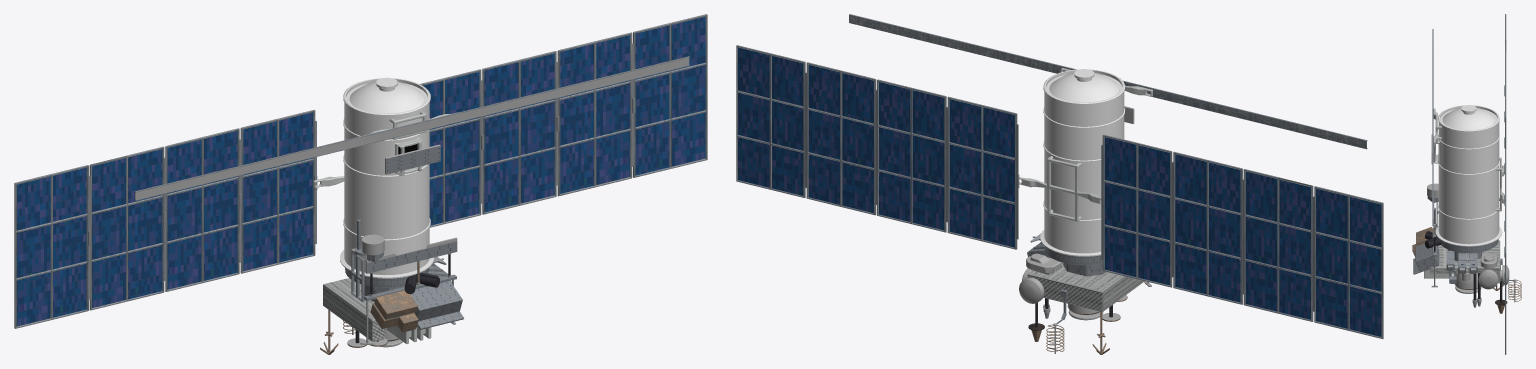
The model's file is meteorm2.glb.
The picture shows the model from 3 angles, left to right: view 1: azimuth 30°, elevation 25°; view 2: azimuth 150°, elevation 25°; view 3: azimuth 270°, elevation 25°; orthographic projection. The views are drawn at different scales.
Visible parts, largest first — view 1: Meteor-M2; view 2: Meteor-M2; view 3: Meteor-M2.
Boxes of the visible parts, x1,y1,x2,y2 form: Meteor-M2: [14, 14, 707, 354]; Meteor-M2: [736, 14, 1383, 354]; Meteor-M2: [1412, 14, 1521, 354].
Size of the model in its own units: 18.68 by 7.15 by 3.63.
1 material, 1 textured.
